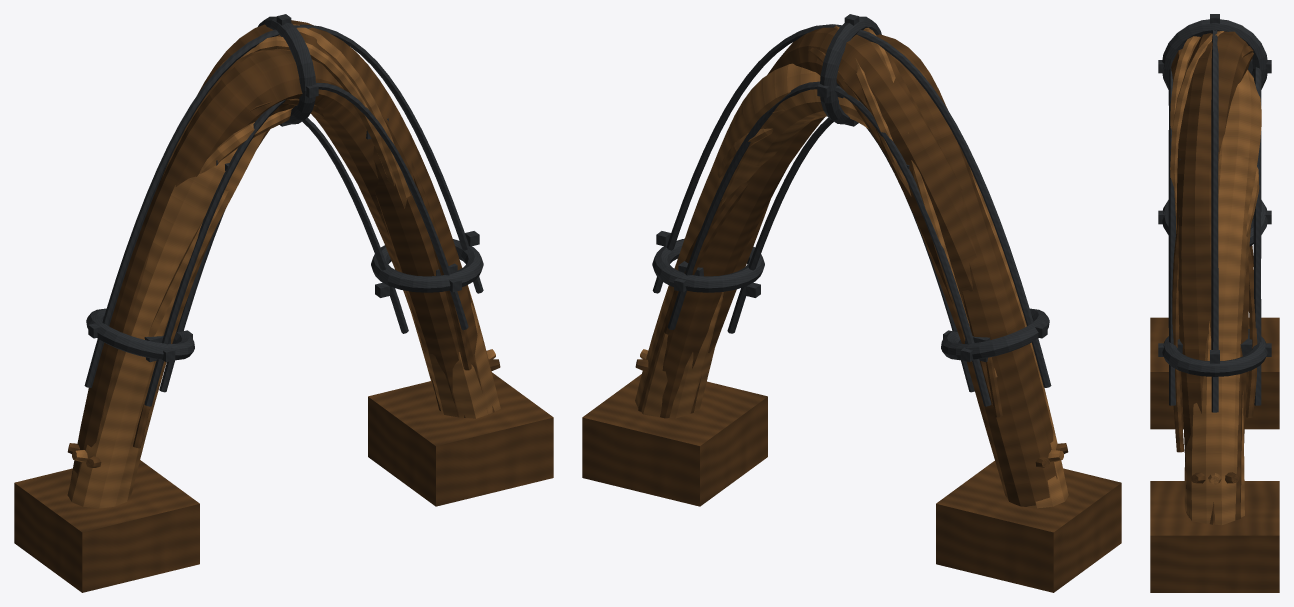
File: rootforged-rootforged-arch-rib-4m.glb
The picture shows the model from 3 angles, left to right: view 1: azimuth 30°, elevation 25°; view 2: azimuth 150°, elevation 25°; view 3: azimuth 270°, elevation 25°; orthographic projection. The views are drawn at different scales.
Visible parts, largest first — view 1: braided-root-1, braided-root-0, arch-modular-foot-1, arch-modular-foot--1, braided-root-2, forged-longitudinal-strap-1, forged-longitudinal-strap-2, forged-longitudinal-strap-3, iron-collar-2, iron-collar-0, surface-root-vein-1, iron-collar-1 (+4 smaller); view 2: braided-root-0, arch-modular-foot-1, arch-modular-foot--1, braided-root-1, braided-root-2, forged-longitudinal-strap-1, forged-longitudinal-strap-0, forged-longitudinal-strap-3, iron-collar-2, iron-collar-1, iron-collar-0, bark-ridge-0 (+2 smaller); view 3: braided-root-1, braided-root-2, arch-modular-foot-1, arch-modular-foot--1, forged-longitudinal-strap-1, iron-collar-1, iron-collar-2, forged-longitudinal-strap-0, forged-longitudinal-strap-2, braided-root-0, bark-ridge-2, surface-root-vein-1 (+5 smaller).
Part boxes in pixels (box(x1,y1,x2,y2)): braided-root-1: box(67, 129, 500, 508); braided-root-0: box(71, 50, 494, 479); arch-modular-foot-1: box(368, 372, 553, 506); arch-modular-foot--1: box(14, 460, 199, 592); braided-root-2: box(157, 20, 482, 417); forged-longitudinal-strap-1: box(84, 24, 483, 387); forged-longitudinal-strap-2: box(144, 82, 468, 406); forged-longitudinal-strap-3: box(159, 117, 408, 392); iron-collar-2: box(371, 239, 483, 292); iron-collar-0: box(86, 308, 194, 360); surface-root-vein-1: box(293, 24, 410, 208); iron-collar-1: box(258, 16, 315, 124); braided-root-0: box(638, 34, 1057, 506); arch-modular-foot-1: box(582, 374, 767, 506); arch-modular-foot--1: box(936, 461, 1121, 592); braided-root-1: box(635, 63, 1068, 508); braided-root-2: box(708, 27, 976, 352); forged-longitudinal-strap-1: box(652, 24, 1051, 387); forged-longitudinal-strap-0: box(667, 81, 991, 406); forged-longitudinal-strap-3: box(727, 118, 974, 392); iron-collar-2: box(652, 238, 764, 292); iron-collar-1: box(820, 16, 881, 124); iron-collar-0: box(941, 308, 1049, 360); bark-ridge-0: box(664, 182, 1002, 417); braided-root-1: box(1184, 69, 1261, 525); braided-root-2: box(1176, 25, 1253, 512); arch-modular-foot-1: box(1150, 481, 1279, 592); arch-modular-foot--1: box(1150, 317, 1279, 429); forged-longitudinal-strap-1: box(1211, 30, 1218, 412); iron-collar-1: box(1162, 19, 1267, 90); iron-collar-2: box(1162, 329, 1267, 376); forged-longitudinal-strap-0: box(1253, 67, 1261, 405); forged-longitudinal-strap-2: box(1168, 68, 1175, 405); braided-root-0: box(1171, 49, 1250, 524); bark-ridge-2: box(1172, 46, 1253, 452); surface-root-vein-1: box(1170, 31, 1224, 233).
Size of the model in its own units: 4 by 4 by 1.
Materials: 3 (3 with a texture image).
